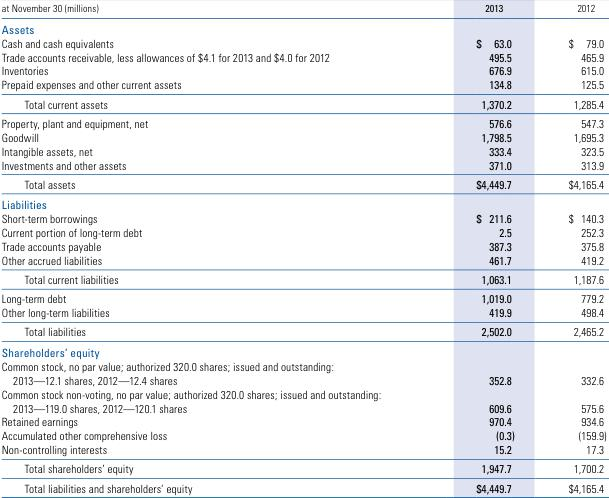table: (0, 1, 605, 494)
table column: (0, 1, 427, 494), (427, 1, 540, 494), (540, 1, 605, 494)
table column header: (0, 1, 605, 17)
table projected row header: (0, 17, 605, 35), (0, 193, 605, 211), (0, 341, 605, 358)
table row: (0, 358, 605, 386), (0, 386, 605, 414), (0, 93, 605, 113), (0, 173, 605, 193), (0, 321, 605, 341), (0, 269, 605, 288), (0, 458, 605, 477), (0, 17, 605, 35), (0, 193, 605, 211), (0, 252, 605, 269), (0, 288, 605, 305), (0, 341, 605, 358), (0, 477, 605, 494), (0, 1, 605, 17), (0, 77, 605, 93), (0, 113, 605, 129), (0, 157, 605, 173), (0, 305, 605, 321), (0, 442, 605, 458), (0, 35, 605, 49), (0, 49, 605, 63), (0, 63, 605, 77), (0, 129, 605, 143), (0, 143, 605, 157), (0, 224, 605, 238), (0, 238, 605, 252), (0, 414, 605, 428), (0, 428, 605, 442), (0, 211, 605, 224)
